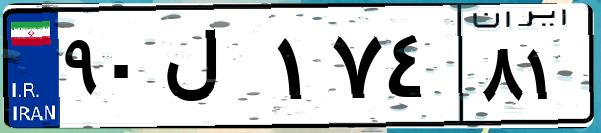0: (110, 28, 158, 98)
1: (270, 28, 330, 110), (525, 38, 570, 115)
4: (385, 28, 445, 110)
7: (330, 28, 385, 110)
8: (475, 38, 525, 113)
9: (57, 26, 110, 100)
ل: (158, 20, 270, 120)
